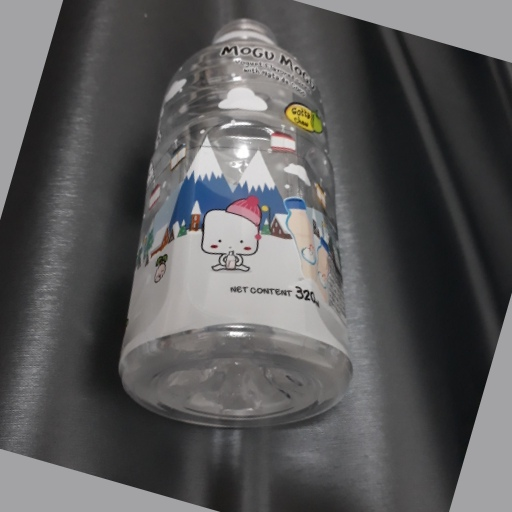Plastic_0: (124, 20, 354, 430)
